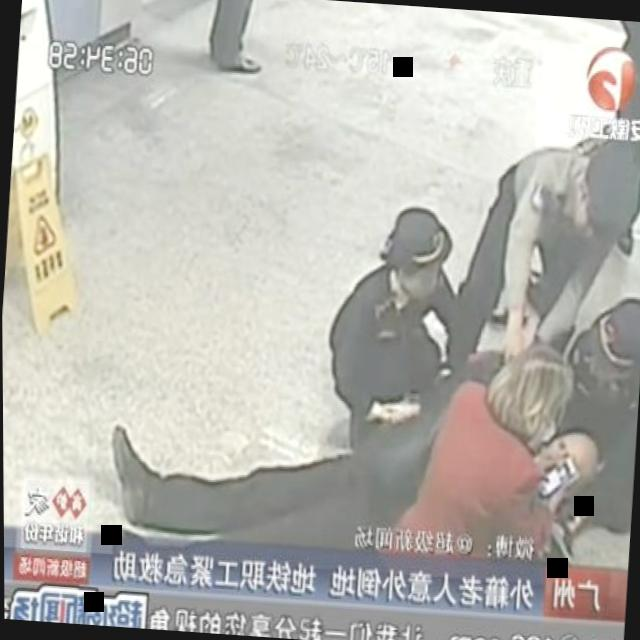Fall-Detected: (92, 382, 627, 607)
